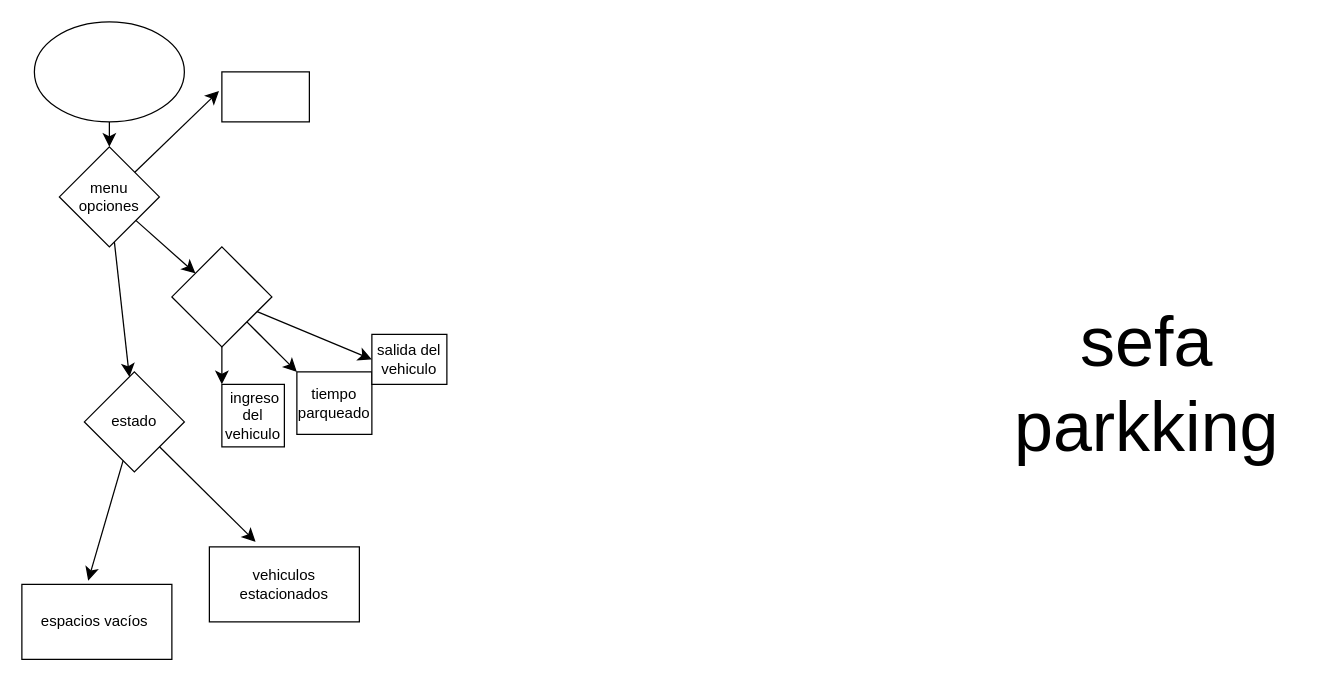
Some shapes in this 1344 by 681 pixel diagram are drawn without their labels. Here are the shapes that lost their labels. From the top down, the box of each, then its label:
(33, 21, 184, 122): inicio
(221, 71, 309, 122): salir del programa
(171, 246, 272, 347): historial de movimientos
